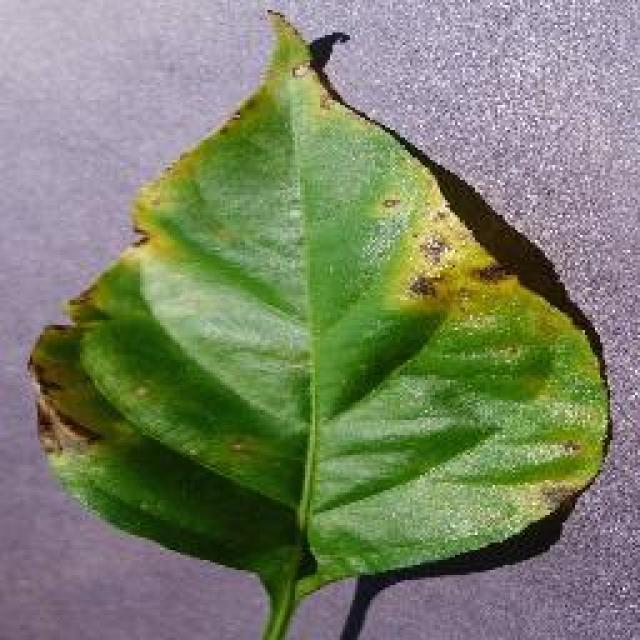Chilli_Bacterial_Spot: (23, 5, 615, 625), (382, 198, 520, 320), (400, 227, 458, 305), (470, 255, 518, 287), (415, 230, 453, 268), (402, 270, 442, 302), (285, 58, 315, 82), (378, 192, 402, 212)
